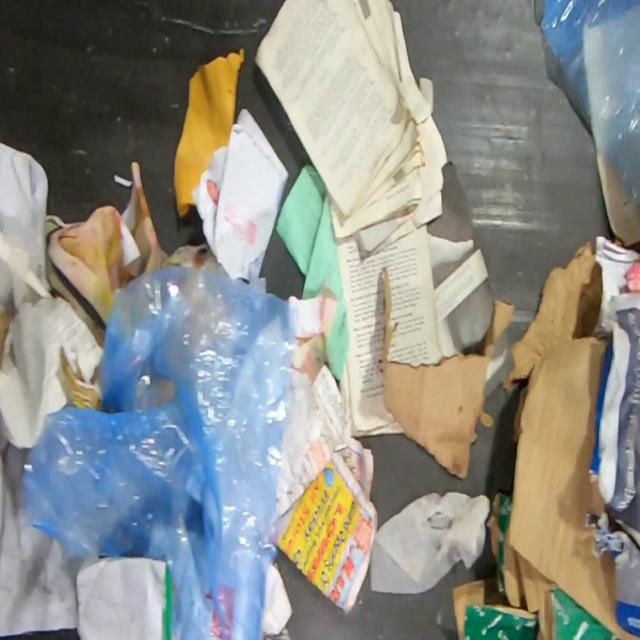cardboard: (502, 236, 640, 640), (380, 263, 517, 482), (451, 490, 623, 640)
soft_plastic: (18, 260, 303, 640), (536, 0, 640, 233)
